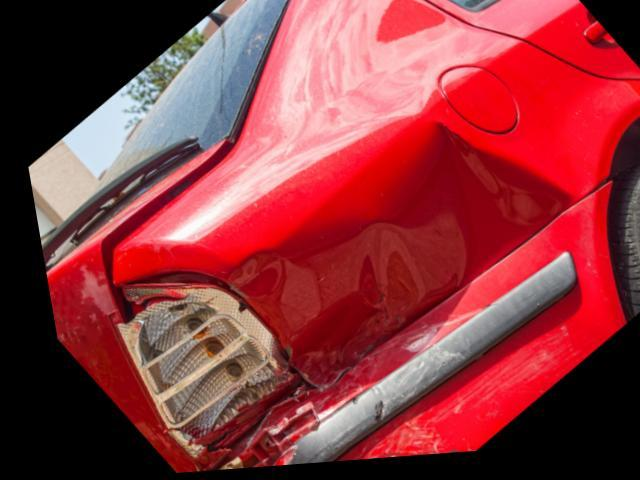dent: (213, 133, 568, 428)
lamp broken: (107, 278, 282, 454)
